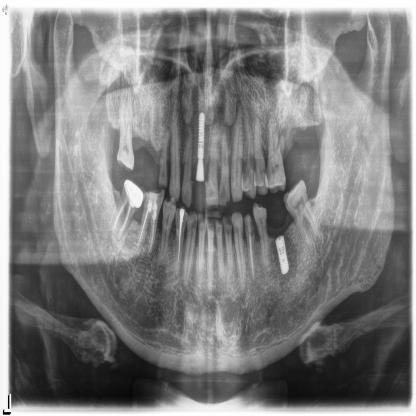ITI: (275, 232, 289, 274), (197, 111, 205, 162)
